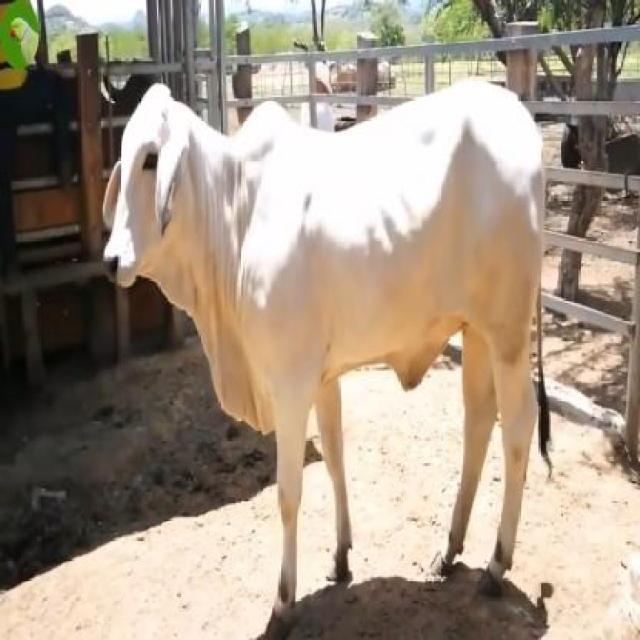Cow: (103, 85, 546, 624)
